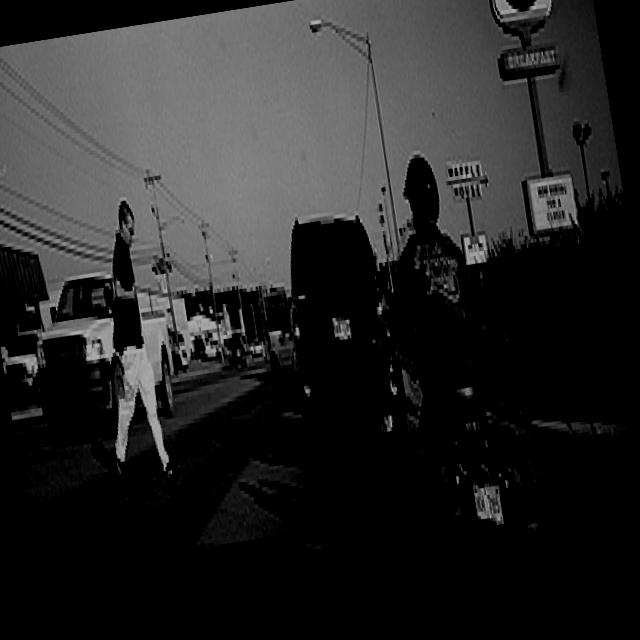Vehicle: (273, 212, 417, 479), (408, 360, 558, 590), (22, 264, 183, 446), (0, 325, 51, 405), (267, 318, 300, 384), (168, 330, 192, 378), (221, 330, 249, 371)
